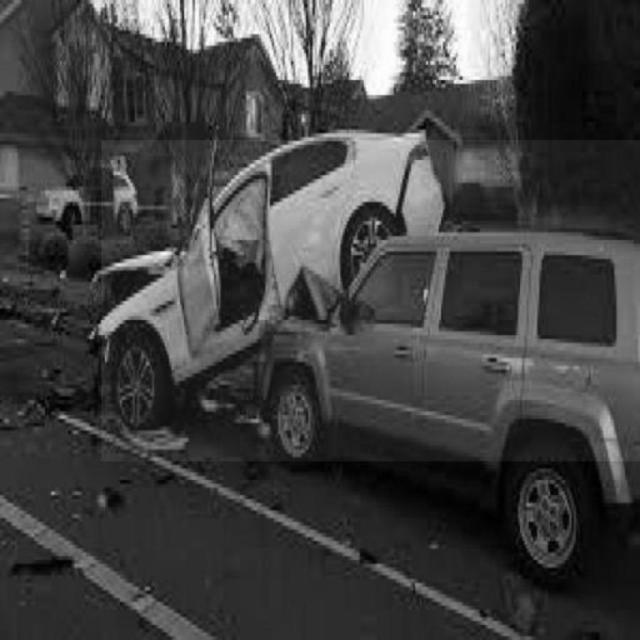accident: (101, 141, 639, 461)
